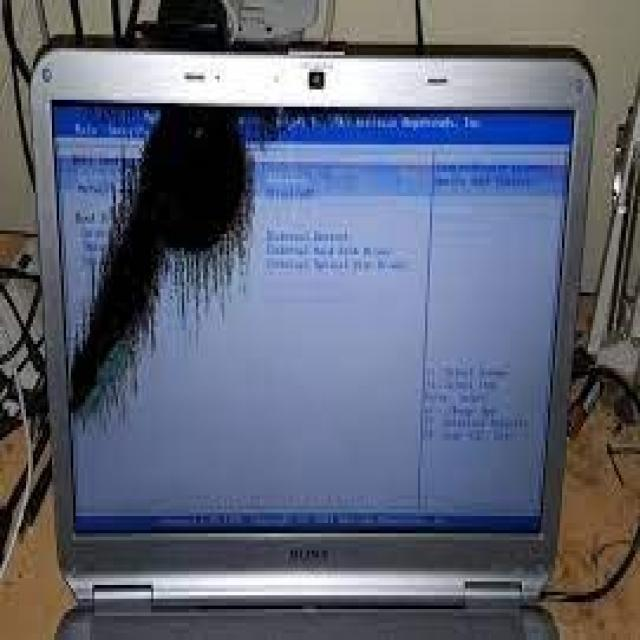Screen cracks: (64, 110, 270, 444)
